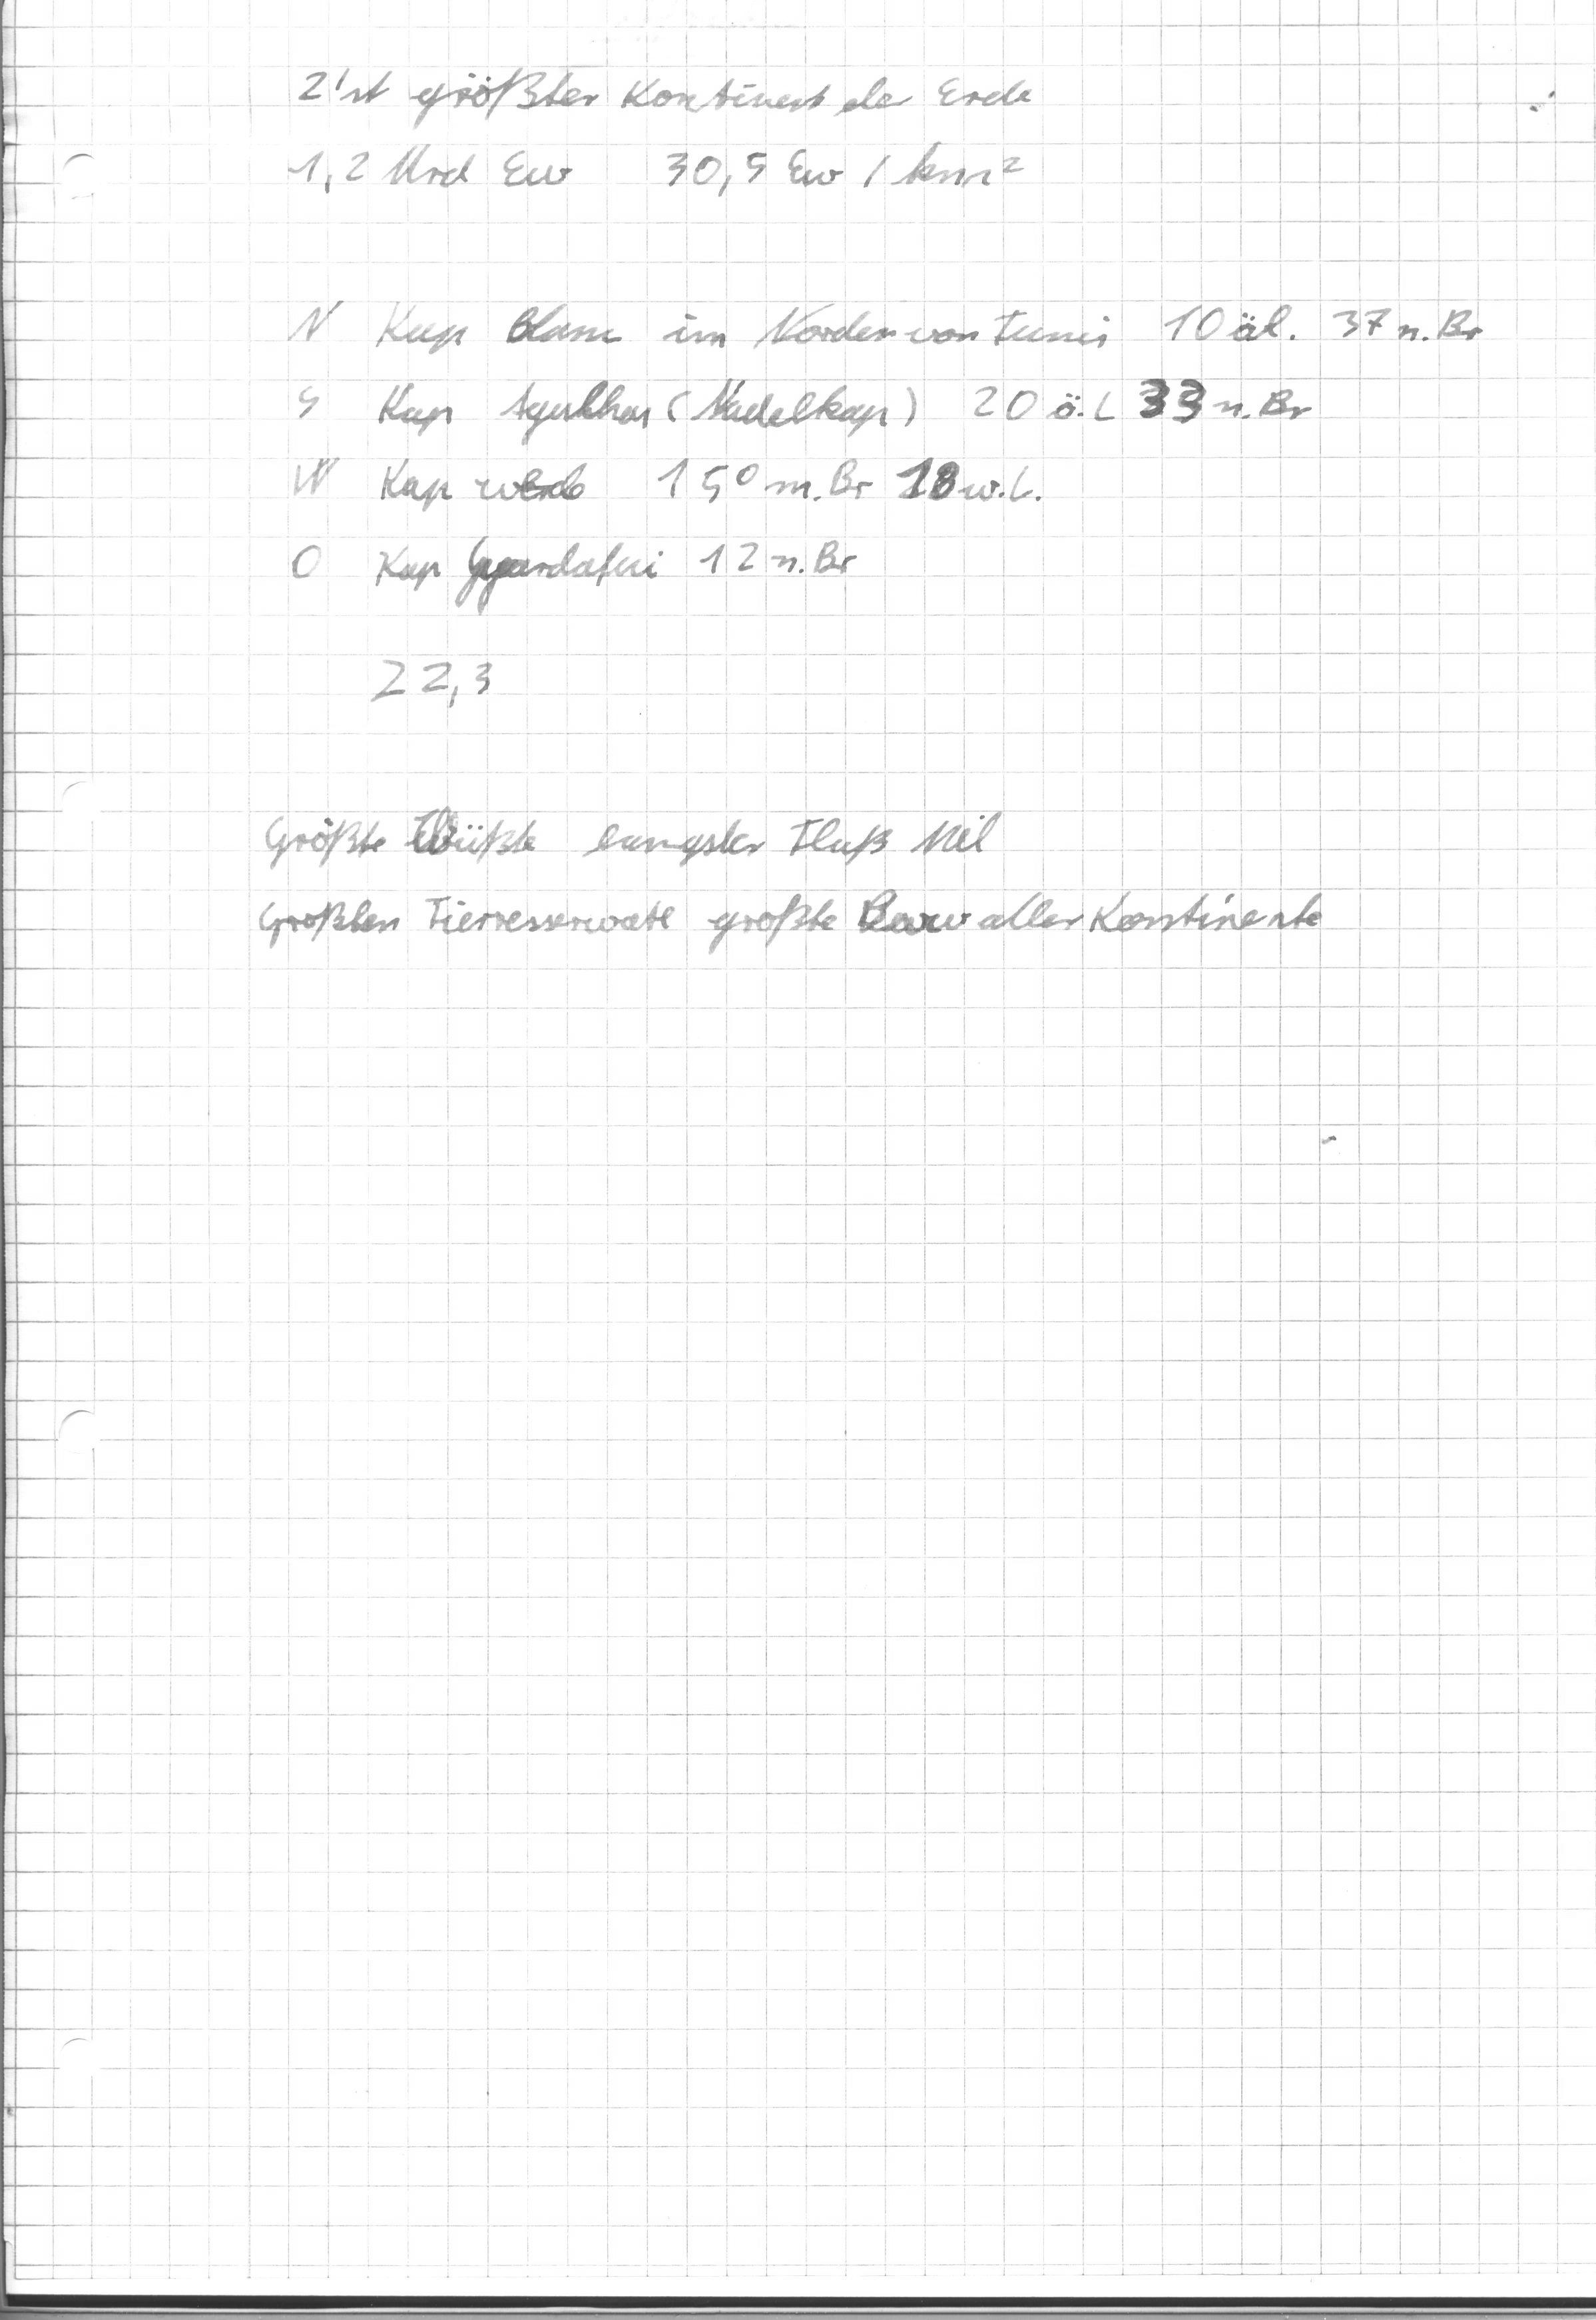word: (266, 283, 1495, 729), (222, 770, 1339, 981), (262, 31, 1082, 242)
